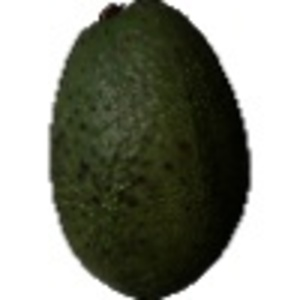abacate: (47, 1, 251, 298)
